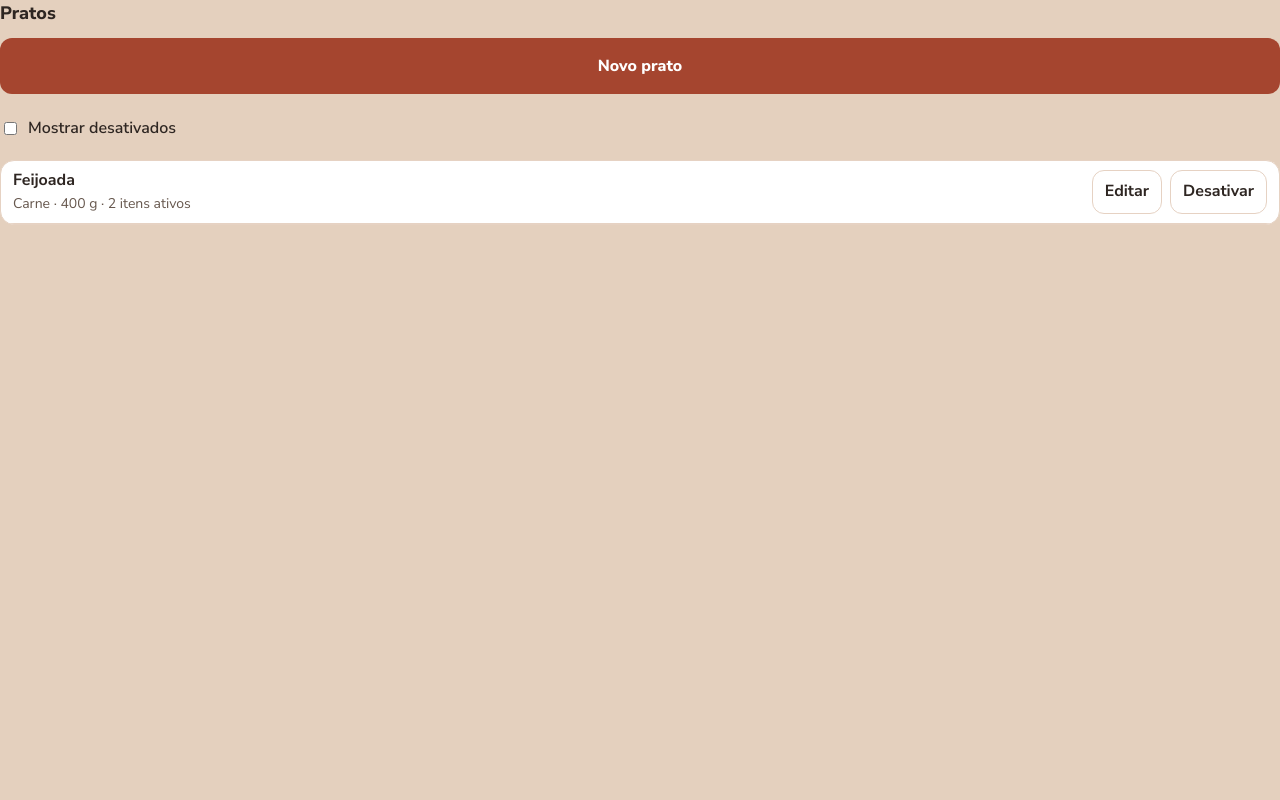
it: editar gramagem mostra o aviso
This screenshot has width=1280, height=800.
Click the button "Editar" at x=1127, y=192, box [1092,170,1162,214]
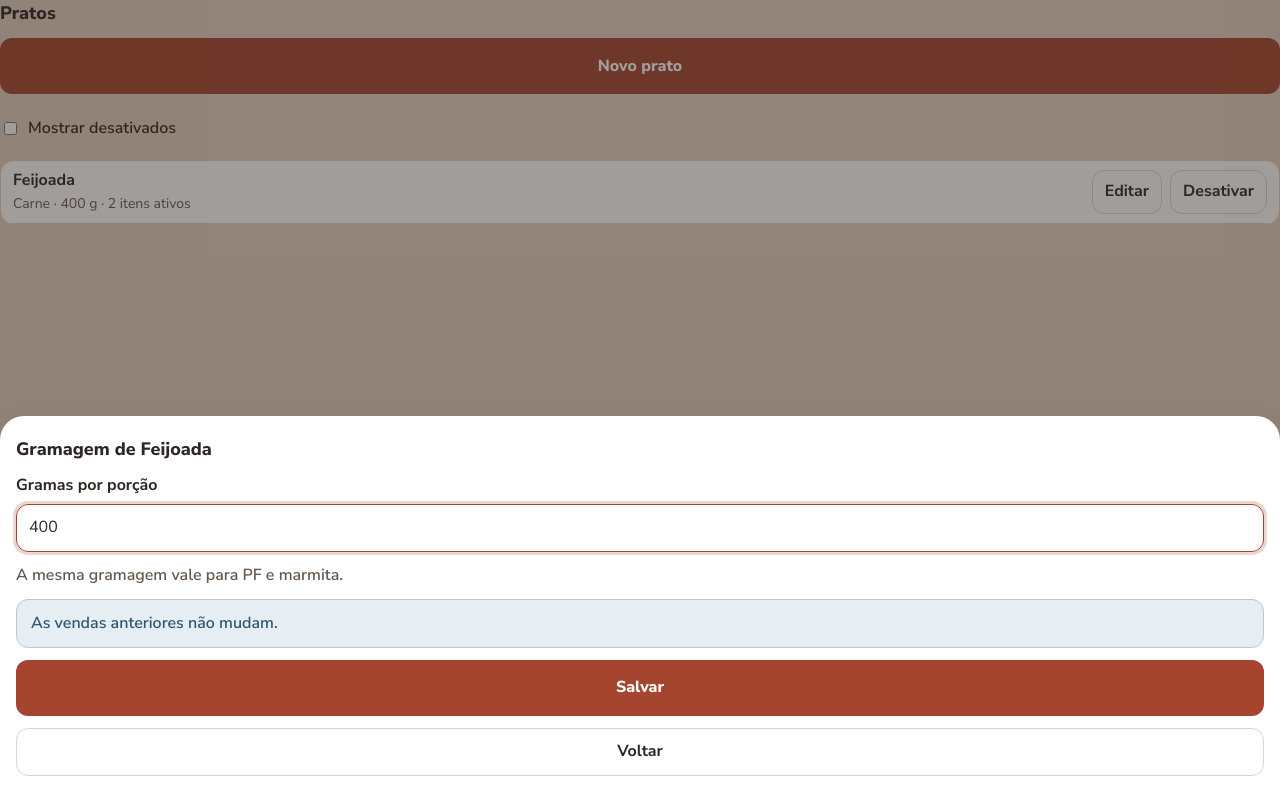
Result: the text "As vendas anteriores não mudam." is shown at [16,599,1264,648]
Result: the text "A mesma gramagem vale para PF e marmita." is shown at [16,564,343,586]
